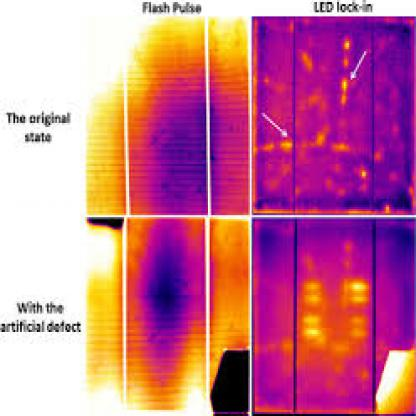Defects: (388, 348, 412, 412), (348, 281, 368, 303), (307, 316, 322, 340), (305, 289, 322, 309)
